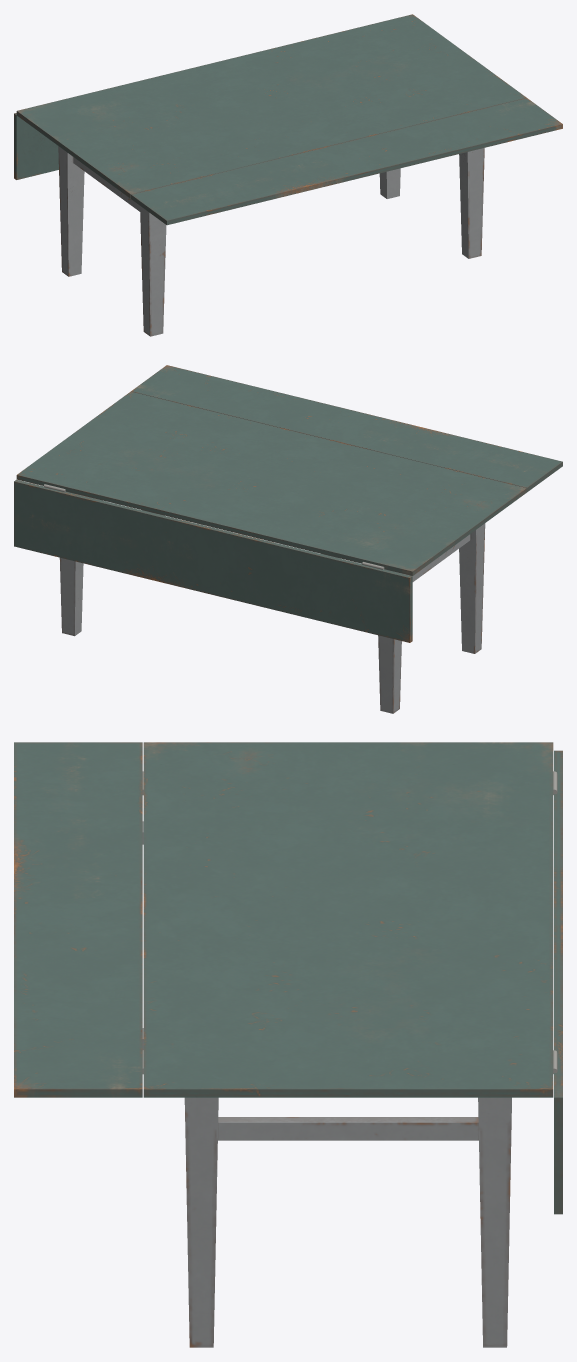
File: kitchen_table.glb
The picture shows the model from 3 angles, top to bottom: view 1: azimuth 30°, elevation 25°; view 2: azimuth 150°, elevation 25°; view 3: azimuth 270°, elevation 25°; orthographic projection. The views are drawn at different scales.
Visible parts, largest first — view 1: Table_Kitchen_A_2; view 2: Table_Kitchen_A_2; view 3: Table_Kitchen_A_2.
Part boxes in pixels (left/top/right/bottom): Table_Kitchen_A_2: left=14, top=14, right=562, bottom=336; Table_Kitchen_A_2: left=14, top=365, right=562, bottom=713; Table_Kitchen_A_2: left=14, top=742, right=562, bottom=1347.
Size of the model in its own units: 2 by 0.772 by 1.34.
1 material, 1 textured.
